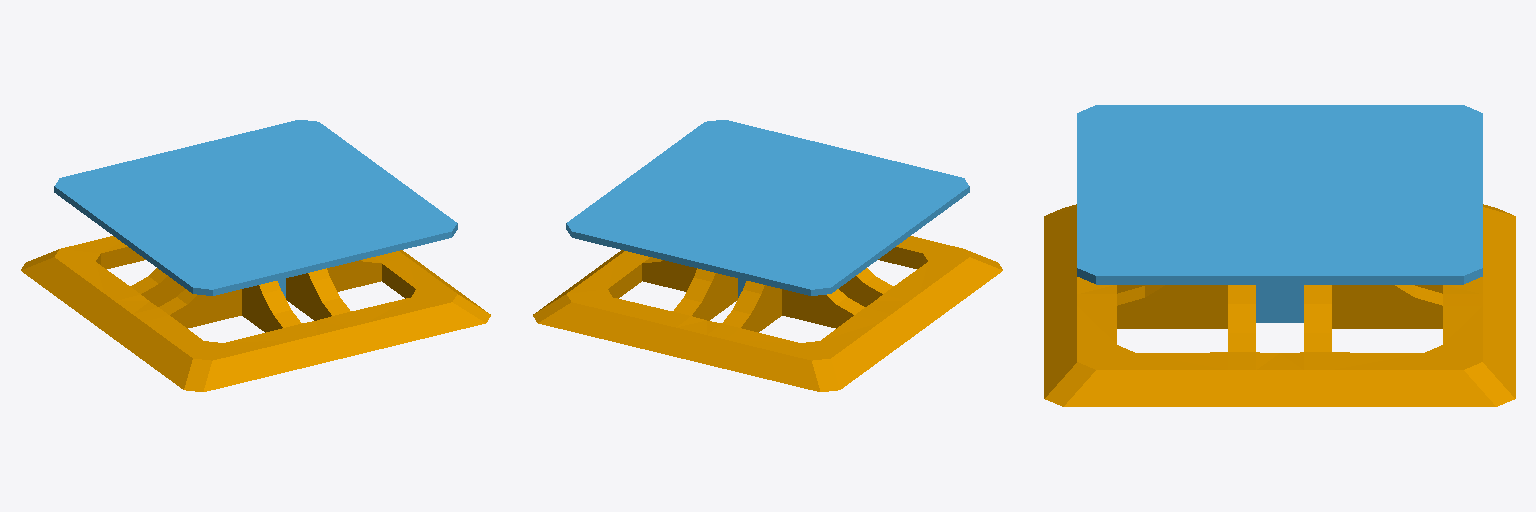
robot.urdf — scale:
<?xml version="1.0" ?>
<robot name="scale">
	<link name="base">
<!-- 		<inertial>
			<mass value="80"/>
			<inertia ixx="1" ixy="0" ixz="0" iyy="1" iyz="0" izz="1"/>
		</inertial> -->
		<visual>
			<geometry>
				<mesh filename="package://iai_bullet_sim/meshes/scale_base.dae"/>
			</geometry>
		</visual>
		<collision>
			<origin rpy="0 0 0" xyz="0 0 0"/>
			<geometry>
				<mesh filename="package://iai_bullet_sim/meshes/scale_base.dae"/>
			</geometry>
		</collision>
	</link>
	<link name="plate">
<!-- 		<inertial>
			<mass value="20"/>
			<inertia ixx="1" ixy="0" ixz="0" iyy="1" iyz="0" izz="1"/>
		</inertial> -->
		<visual>
			<geometry>
				<mesh filename="package://iai_bullet_sim/meshes/scale_plate.dae"/>
			</geometry>
		</visual>
		<collision>
			<origin rpy="0 0 0" xyz="0 0 0"/>
			<geometry>
				<mesh filename="package://iai_bullet_sim/meshes/scale_plate.dae"/>
			</geometry>
		</collision>
	</link>
	<joint name="plate_lift" type="prismatic">
		<parent link="base"/>
		<child link="plate"/>
		<axis xyz="0 0 1"/>
		<limit effort="10" velocity="10" lower="0" upper="0.2"/>
	</joint>
</robot>

--- Facts derived from the render (not from the file) ---
The picture shows the robot from 3 angles, left to right: view 1: azimuth 30°, elevation 25°; view 2: azimuth 150°, elevation 25°; view 3: azimuth 270°, elevation 25°; orthographic projection.
Model scale with 2 links and 1 joints (1 prismatic), rooted at base, posed every joint at zero.
Links seen in each view (by area): view 1: plate, base; view 2: plate, base; view 3: plate, base.
Boxes of the visible links, x1,y1,x2,y2 form: plate: (54,120,457,297); base: (21,236,490,391); plate: (566,120,969,297); base: (533,236,1002,391); plate: (1077,105,1482,322); base: (1044,204,1515,406).
Size in the robot's own frame: 1 by 1 by 0.2741 metres.
2 mesh visuals loaded from 2 distinct referenced files (2 Collada DAE).